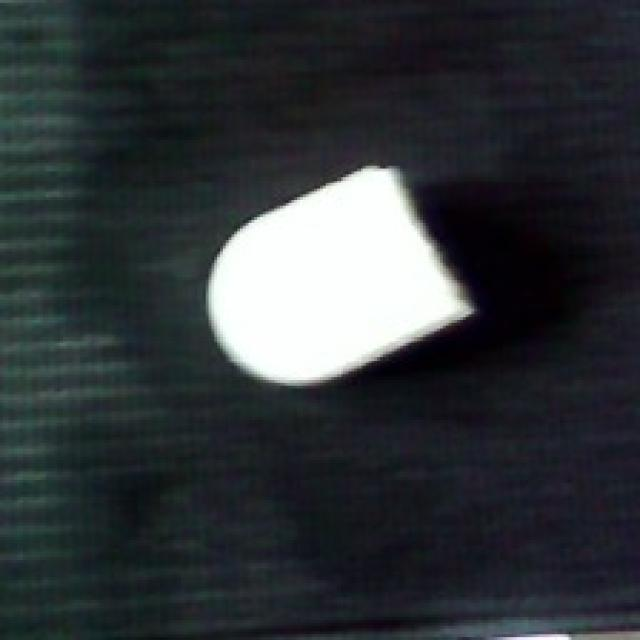defected: (203, 160, 486, 397)
